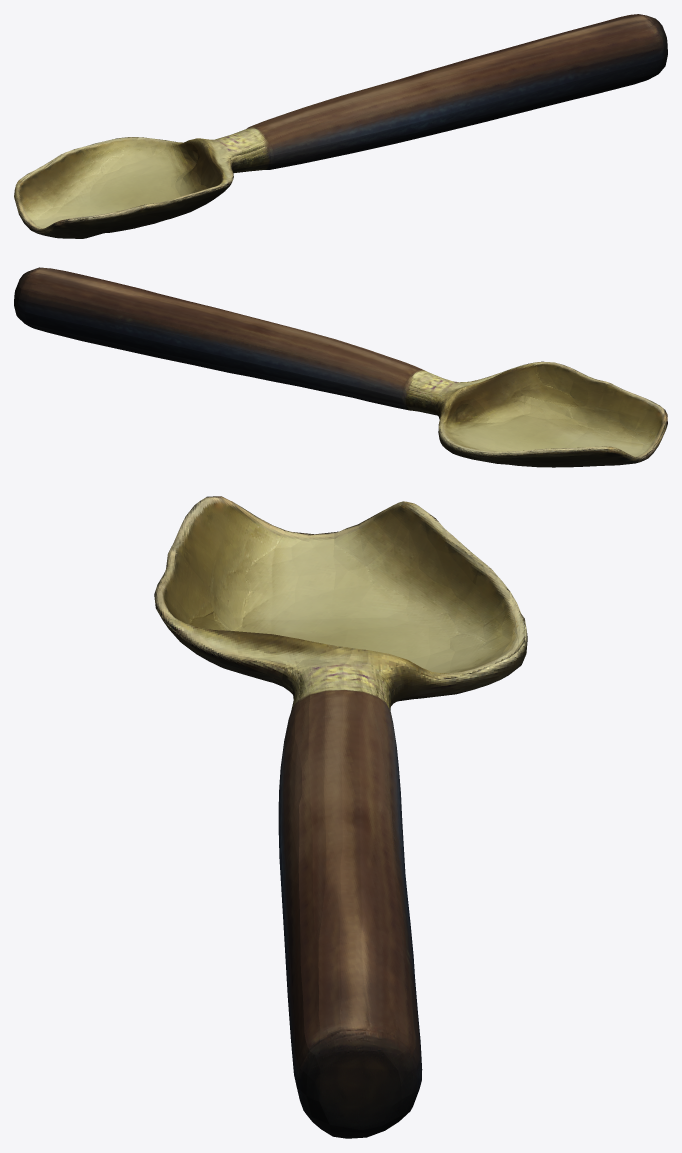
The model's file is teaspoon.obj.
The picture shows the model from 3 angles, top to bottom: view 1: azimuth 30°, elevation 25°; view 2: azimuth 150°, elevation 25°; view 3: azimuth 270°, elevation 25°; orthographic projection. The views are drawn at different scales.
Parts seen in each view (by area): view 1: geometry_0; view 2: geometry_0; view 3: geometry_0.
Part boxes in pixels (x1,y1,x2,y2): geometry_0: (14,14,667,238); geometry_0: (14,267,667,467); geometry_0: (154,496,527,1138).
Bounding box in the file's own units: 170 × 15.4 × 44.86.
1 material, 1 textured.
